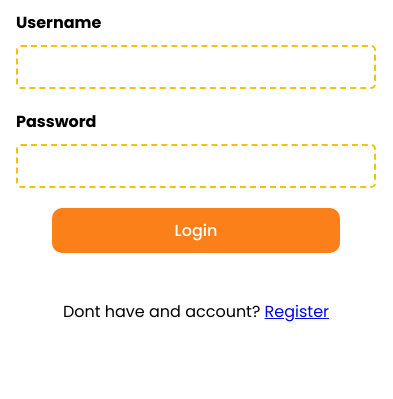
LoginForm › Exibe mensagem de erro, ao tentar enviar form vazio.
The width and height of the screenshot is (393, 399).
# faz a simulacao do envio do formulario
Click the button "Login". click: (196, 230)
box: left=52, top=208, right=340, bottom=253
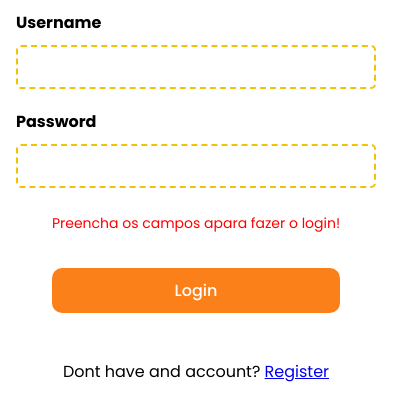
Expected: the text "Preencha os campos apara fazer o login!" is shown, left=52, top=213, right=340, bottom=233
# preenche o username
Type "testuser" into the field labelled "Username". click: (196, 67)
box: left=16, top=45, right=376, bottom=89
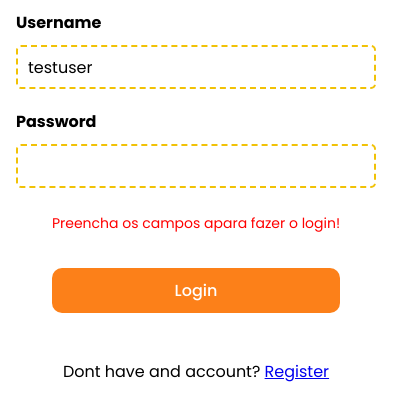
Click the button "Login". click: (196, 290)
box: left=52, top=268, right=340, bottom=313
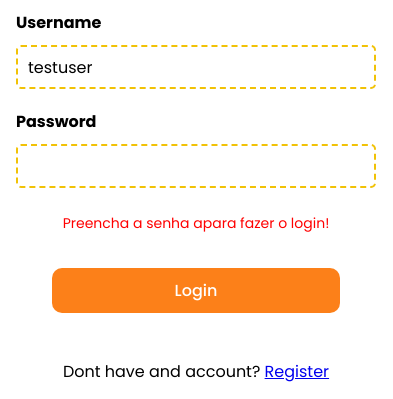
Expected: the text "Preencha a senha apara fazer o login!" is shown, left=63, top=213, right=329, bottom=233
Type "testpassword" into the password field labelled "Password". click: (196, 166)
box: left=16, top=144, right=376, bottom=188
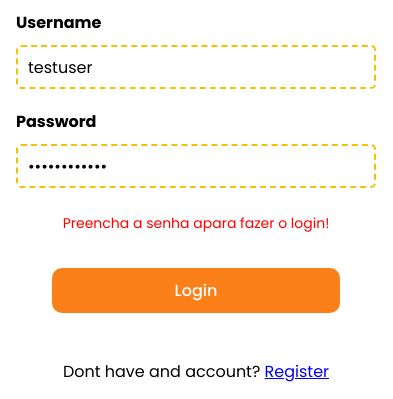
Click the button "Login". click: (196, 290)
box: left=52, top=268, right=340, bottom=313
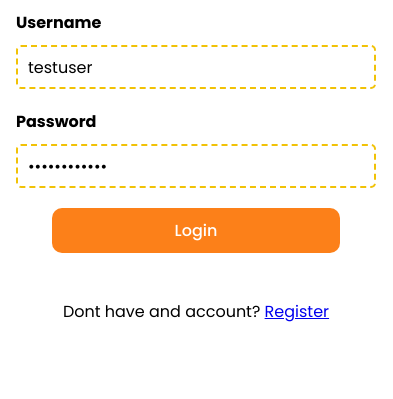
Expected: the text "Preencha os campos apara fazer o login!" is not shown
Expected: the text "Preencha a senha apara fazer o login!" is gone
